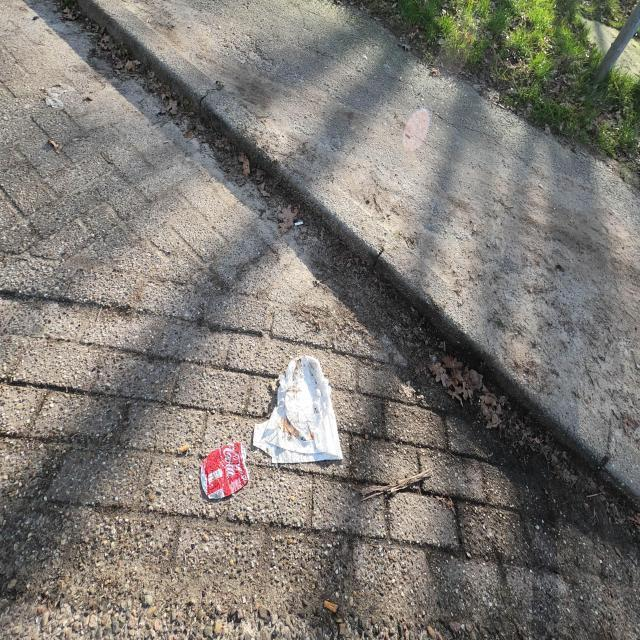Can-Metal: (199, 441, 251, 500)
Paper: (252, 353, 344, 464)
